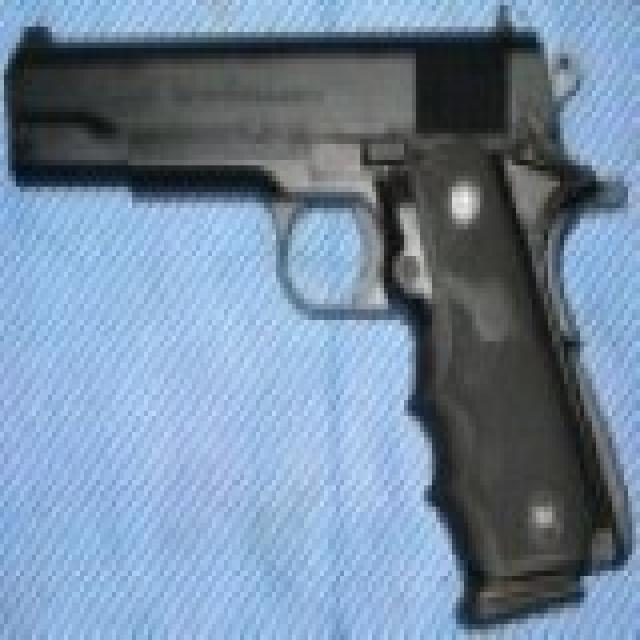Gun: (9, 11, 613, 609)
